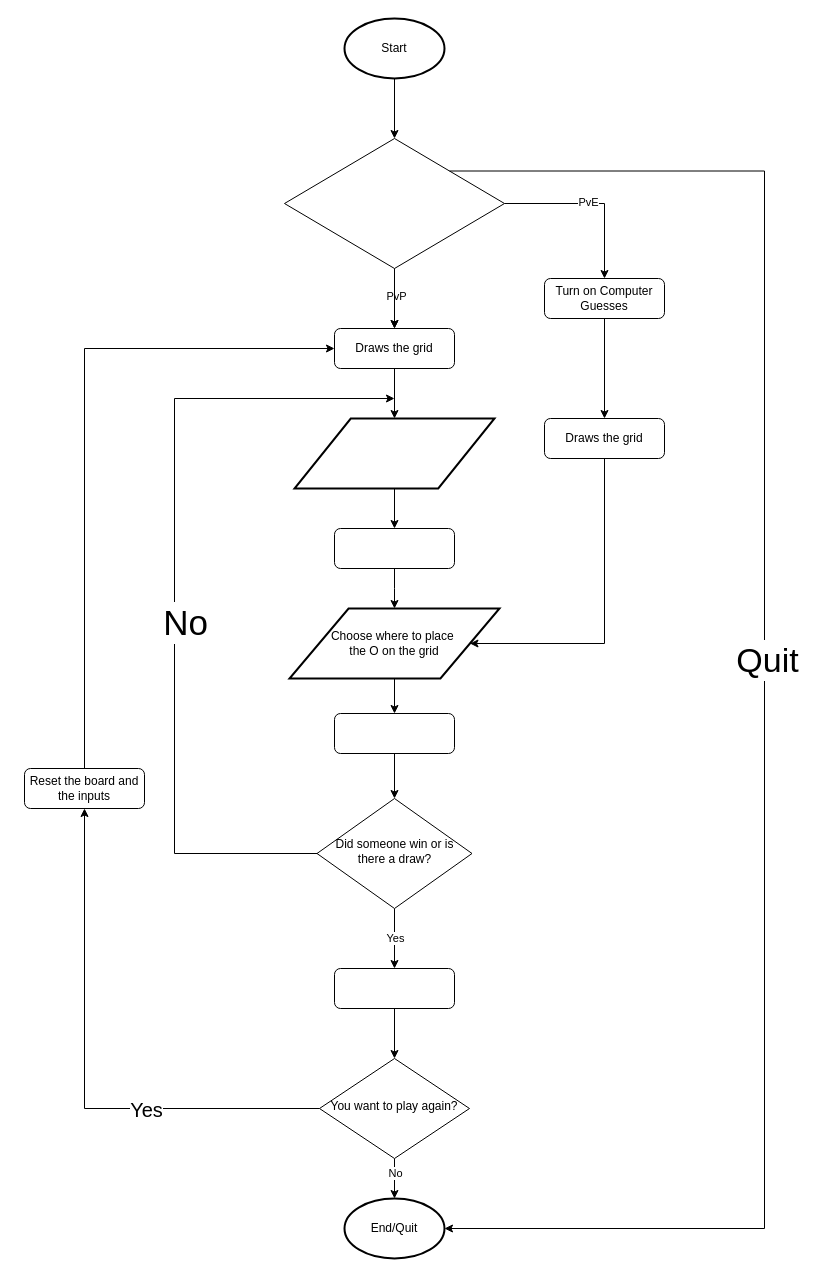
Some shapes in this 815 by 1276 pixel diagram are drawn without their labels. Here are the shapes that lost their labels. From the top down, the centre of each, then its label:
At (394,203): "Do you want to play PvP, PvE or Quit?".
At (394,453): "Choose where to place X on the grid".
At (394,548): "Draws the X".
At (394,733): "Draws the O".
At (394,988): "Draws the win/draw message".
